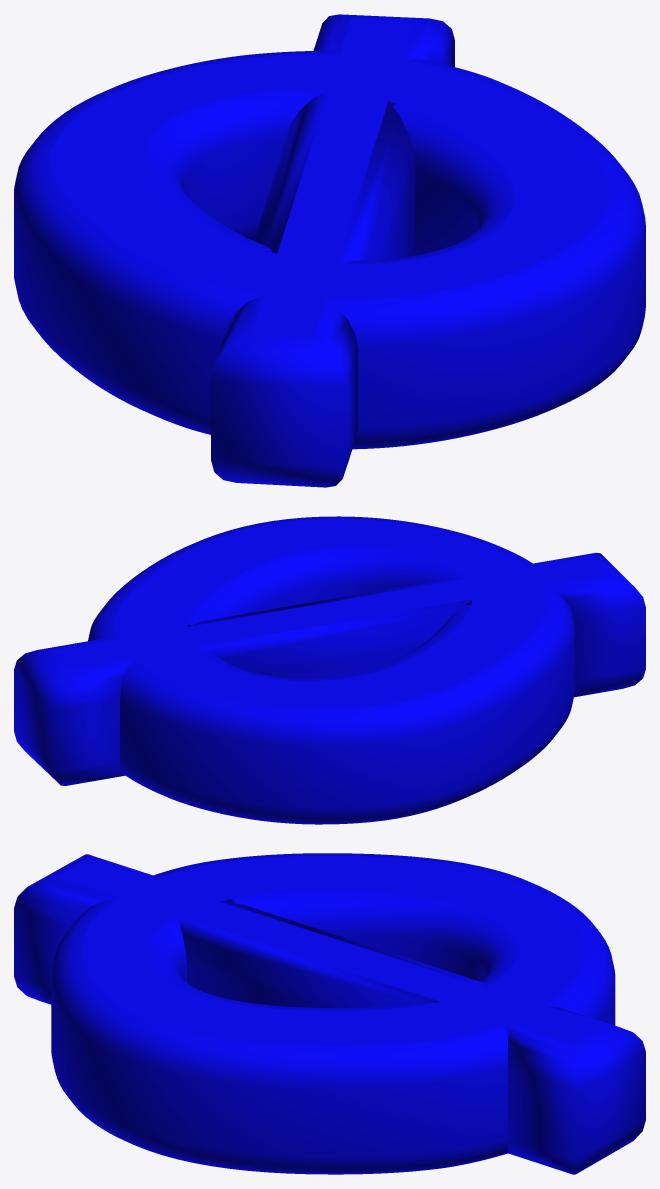
The picture shows the model from 3 angles, top to bottom: view 1: azimuth 30°, elevation 25°; view 2: azimuth 150°, elevation 25°; view 3: azimuth 270°, elevation 25°; orthographic projection. The views are drawn at different scales.
Parts seen in each view (by area): view 1: texto; view 2: texto; view 3: texto.
Part boxes in pixels (x1,y1,x2,y2): texto: (14,14,645,487); texto: (14,516,645,824); texto: (14,853,645,1174).
Size of the model in its own units: 0.8362 by 0.22 by 1.
